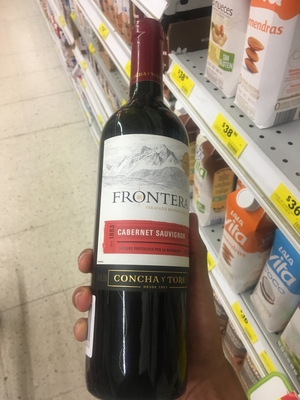frontera cabernet sauvignon: (96, 19, 204, 379)
